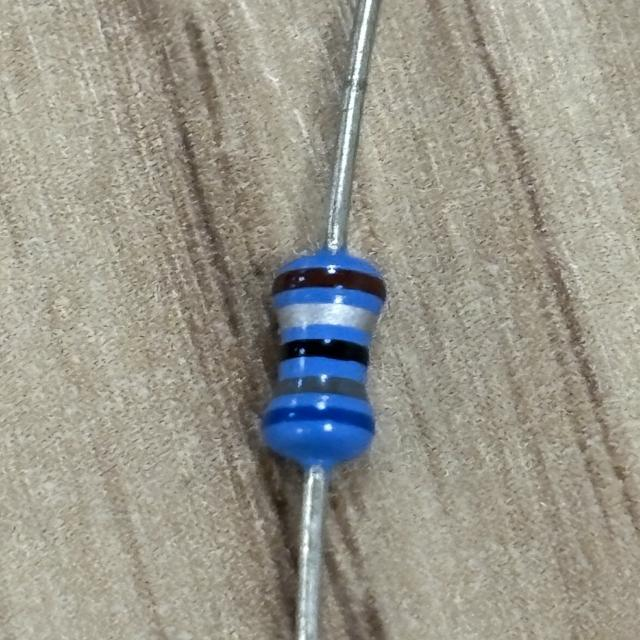resistor: (255, 258, 396, 457)
